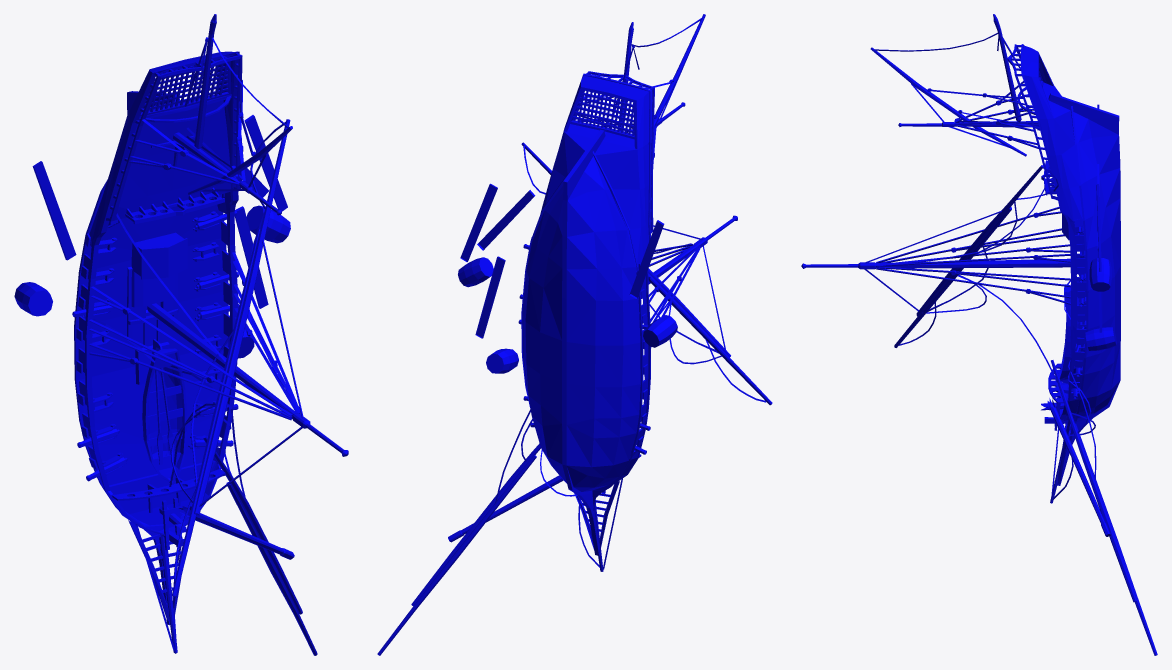
File: xebec_death1.obj
3 views of the same model, side by side, from view 1: azimuth 30°, elevation 25°; view 2: azimuth 150°, elevation 25°; view 3: azimuth 270°, elevation 25° (orthographic). The views are drawn at different scales.
Parts seen in each view (by area): view 1: Object; view 2: Object; view 3: Object.
Boxes of the visible parts, x1,y1,x2,y2 form: Object: (14, 14, 348, 655); Object: (377, 14, 772, 655); Object: (801, 14, 1157, 655).
Size of the model in its own units: 7.85 by 17.31 by 9.87.
